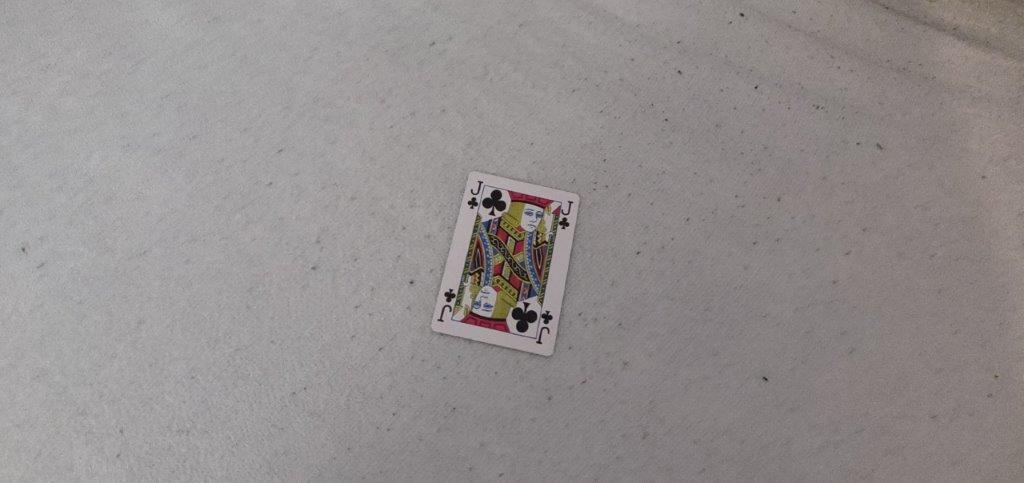JC: (556, 196, 578, 233), (463, 180, 486, 213)
